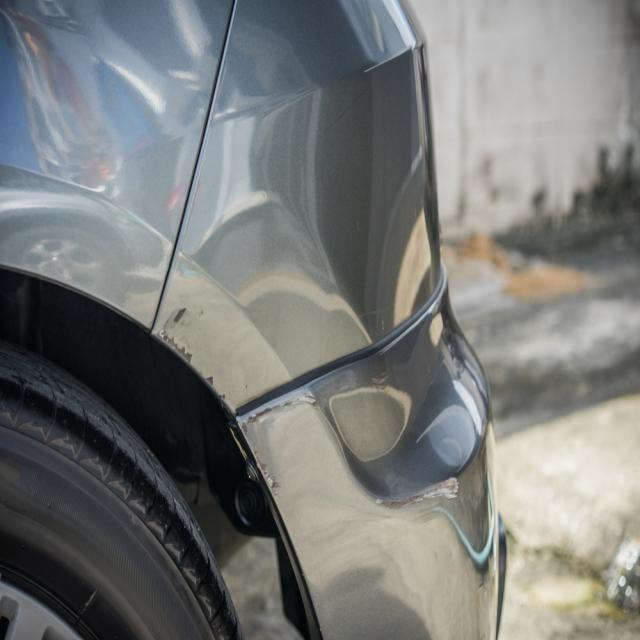scratch: (235, 384, 320, 494), (158, 306, 218, 389), (372, 472, 468, 514)
